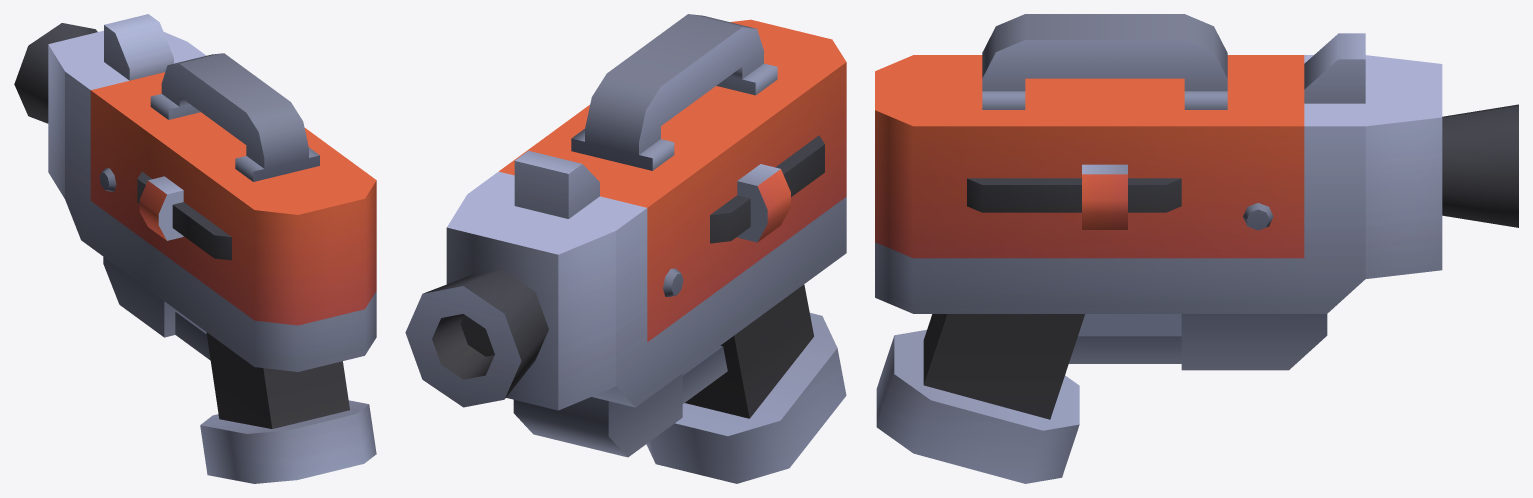
Rendered from blaster-b.glb.
The picture shows the model from 3 angles, left to right: view 1: azimuth 30°, elevation 25°; view 2: azimuth 150°, elevation 25°; view 3: azimuth 270°, elevation 25°; orthographic projection. The views are drawn at different scales.
Parts seen in each view (by area): view 1: blaster-b; view 2: blaster-b; view 3: blaster-b.
Boxes of the visible parts, box(x1,y1,x2,y2) form: blaster-b: box(14, 14, 376, 483); blaster-b: box(405, 14, 846, 483); blaster-b: box(875, 14, 1518, 483).
Bounding box in the file's own units: 0.155 × 0.3105 × 0.4201.
1 material, 1 textured.
